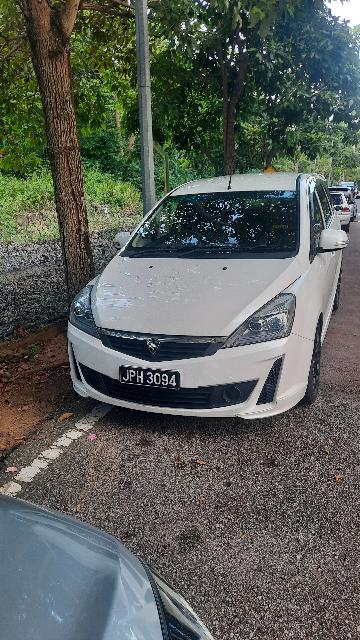License_Plate: (118, 365, 184, 393)
car: (67, 169, 352, 433)
